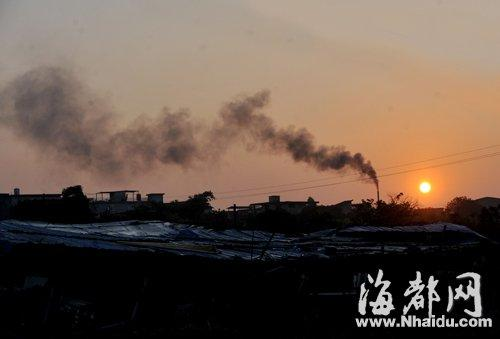smoke: (223, 93, 380, 187)
